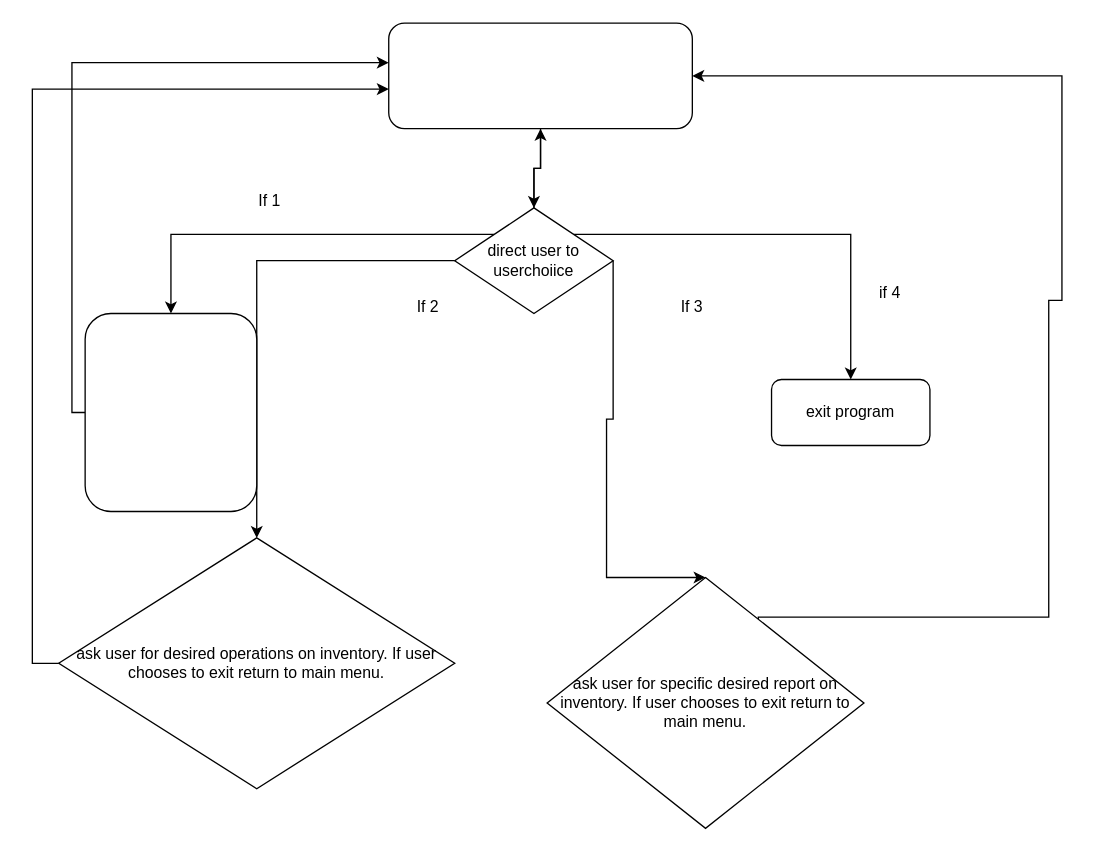
The diagram is 1096 pixels wide and 851 high, and some of its shapes have lost their labels. The shapes that lost their labels are listed below. From the top down, each one's centre as x and y in pixels, then its label:
the point at 539,75: Choose option (1-4) Cashier Inventory Reports Exit Program
the point at 170,412: Guide user through POS(Point of Sale) software Return to main menu if finished.
